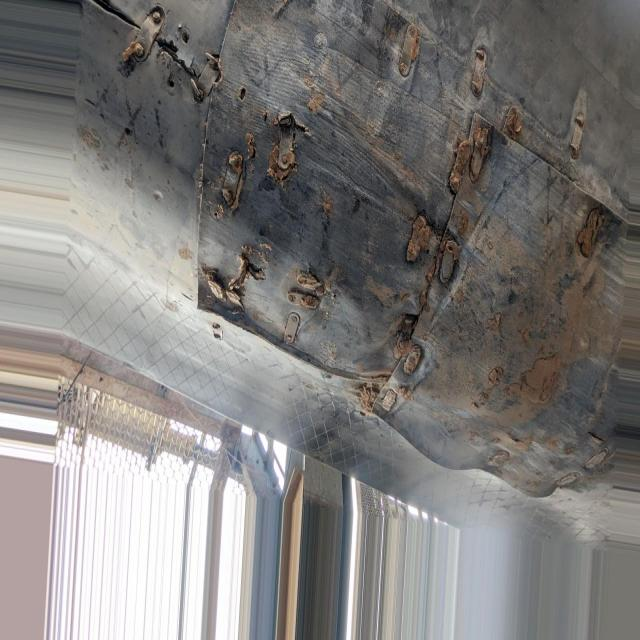patch work: (106, 0, 621, 504)
